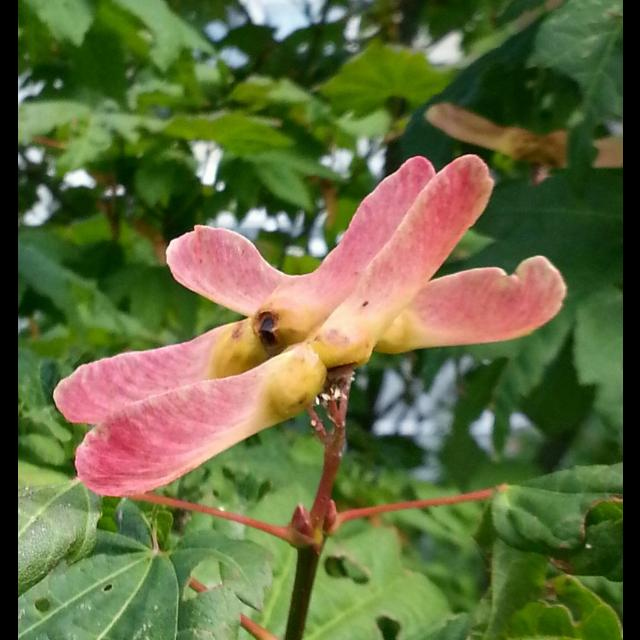Flower: (72, 132, 548, 504)
